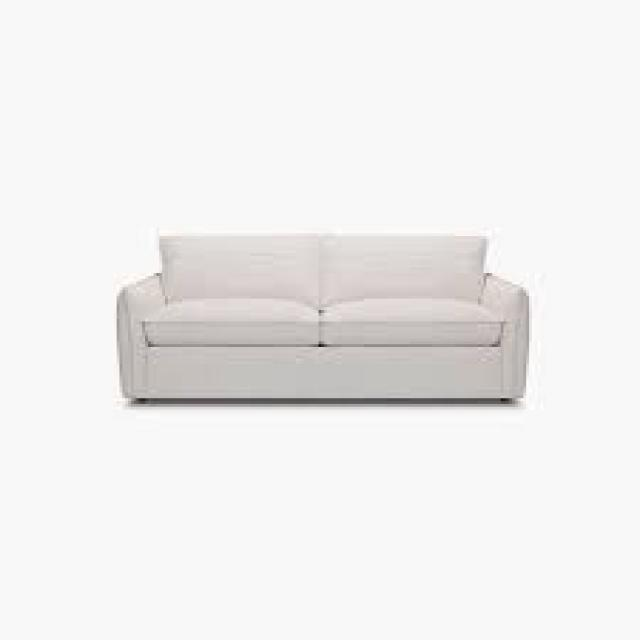Sofa: (51, 197, 570, 448)
